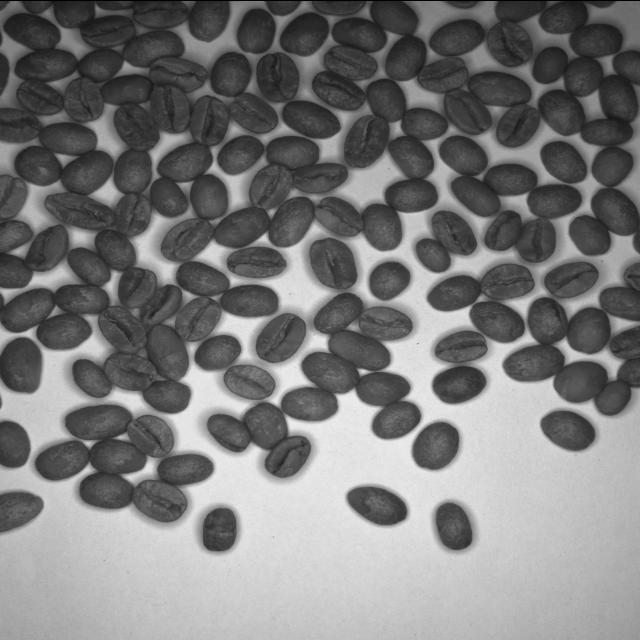bad: (192, 501, 248, 554)
good: (140, 76, 200, 144), (58, 396, 141, 442), (248, 306, 310, 367), (462, 60, 540, 106), (336, 109, 392, 173), (14, 221, 80, 275), (339, 481, 410, 531), (153, 136, 221, 188), (57, 145, 126, 196), (26, 434, 98, 482), (318, 328, 400, 370), (238, 395, 304, 447), (105, 142, 163, 200), (430, 496, 484, 558), (262, 196, 324, 250), (377, 131, 442, 182), (115, 24, 187, 70), (298, 68, 370, 114), (513, 39, 579, 89), (538, 254, 606, 302), (290, 153, 356, 202), (278, 95, 344, 144), (420, 207, 482, 259), (38, 192, 118, 232), (472, 202, 532, 255), (458, 300, 530, 344), (500, 339, 570, 384), (534, 82, 590, 138), (414, 416, 468, 474), (512, 210, 570, 264), (354, 199, 412, 253), (156, 213, 215, 266), (294, 352, 365, 396), (550, 352, 610, 404), (140, 52, 212, 95), (522, 179, 589, 225), (304, 236, 361, 290), (480, 19, 538, 72), (120, 410, 184, 458), (0, 288, 64, 336), (358, 76, 422, 124), (208, 131, 267, 183), (1, 143, 66, 190), (262, 128, 328, 174), (442, 172, 508, 218), (374, 32, 428, 88), (490, 100, 548, 152), (1, 332, 48, 396), (440, 85, 500, 135), (536, 406, 604, 450), (472, 260, 540, 304), (534, 133, 589, 187), (418, 13, 492, 53), (176, 0, 234, 51), (472, 158, 545, 198), (276, 7, 338, 54), (203, 45, 259, 97), (60, 74, 116, 126), (252, 50, 304, 106), (85, 431, 151, 475), (233, 164, 299, 208), (94, 304, 152, 354), (310, 288, 368, 338), (307, 192, 365, 242), (187, 170, 237, 228), (256, 434, 316, 482), (278, 377, 342, 422), (426, 266, 486, 314), (210, 198, 270, 246), (76, 6, 140, 51), (101, 66, 166, 110), (410, 50, 472, 96), (225, 7, 282, 57), (321, 12, 396, 50), (152, 446, 223, 486), (425, 362, 489, 406), (382, 174, 446, 218), (223, 90, 284, 136), (522, 292, 572, 348), (181, 94, 231, 150), (106, 102, 162, 152), (14, 41, 80, 83), (394, 103, 454, 149), (105, 188, 156, 242), (200, 408, 257, 456), (560, 18, 625, 60), (100, 349, 162, 393), (366, 398, 428, 442), (348, 366, 416, 406), (36, 118, 104, 158), (2, 76, 70, 116), (559, 306, 613, 356), (134, 474, 190, 522), (170, 294, 226, 342), (135, 282, 193, 328), (219, 278, 288, 316), (218, 359, 283, 399), (590, 72, 640, 124), (219, 242, 291, 278), (586, 188, 640, 236), (121, 0, 191, 37), (137, 176, 195, 220), (46, 278, 116, 314), (426, 326, 492, 364), (352, 303, 416, 342), (582, 146, 640, 188), (566, 210, 616, 258), (58, 244, 112, 288), (365, 258, 419, 302), (70, 40, 129, 80), (35, 310, 97, 348), (106, 264, 162, 306), (555, 52, 606, 98), (368, 0, 426, 40), (314, 42, 386, 74), (58, 357, 114, 398), (91, 225, 144, 268), (193, 332, 245, 374), (76, 472, 136, 508), (591, 374, 635, 422), (406, 234, 454, 278), (538, 0, 596, 36), (171, 260, 235, 292), (572, 115, 636, 147), (135, 376, 189, 412), (596, 278, 640, 320)
